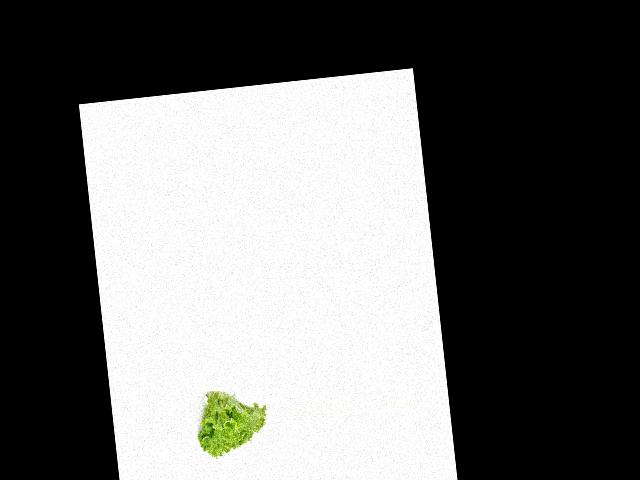lettuce: (192, 380, 273, 464)
